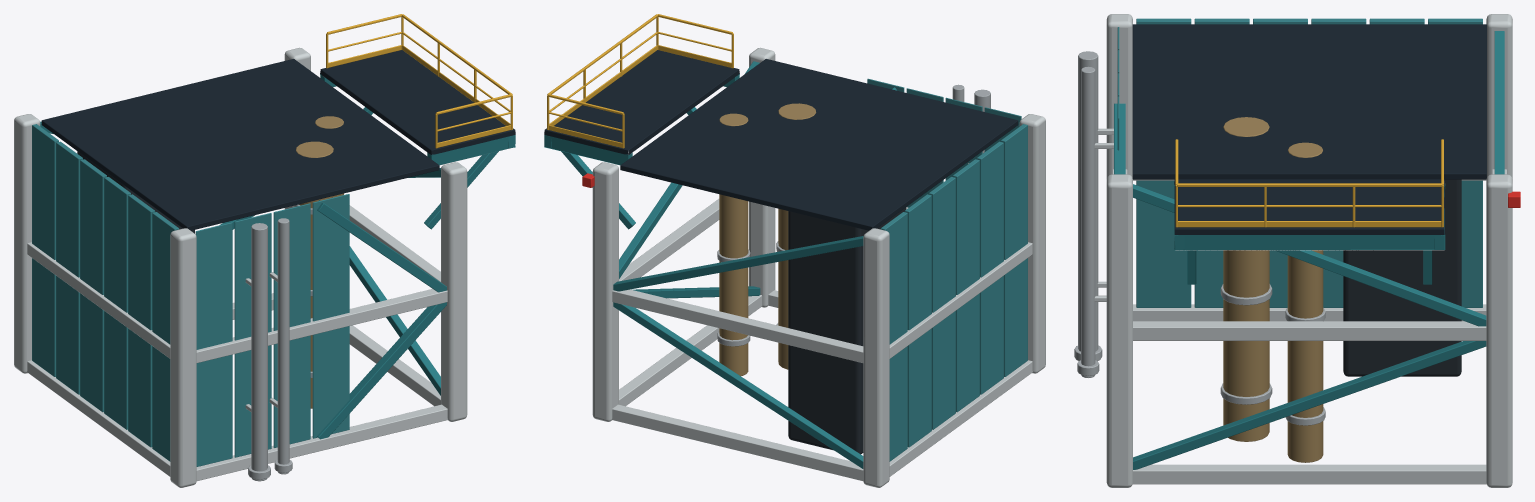
Rendered from hero_tower_segment_a.fbx.
3 renders of one model, left to right at view 1: azimuth 30°, elevation 25°; view 2: azimuth 150°, elevation 25°; view 3: azimuth 270°, elevation 25°, orthographic. The views are drawn at different scales.
Visible parts, largest first — view 1: hero_tower_segment_a; view 2: hero_tower_segment_a; view 3: hero_tower_segment_a.
Boxes of the visible parts, x1,y1,x2,y2 form: hero_tower_segment_a: [14, 14, 515, 487]; hero_tower_segment_a: [544, 14, 1045, 487]; hero_tower_segment_a: [1074, 14, 1520, 487].
Bounding box in the file's own units: 12.12 × 9.11 × 10.58.
